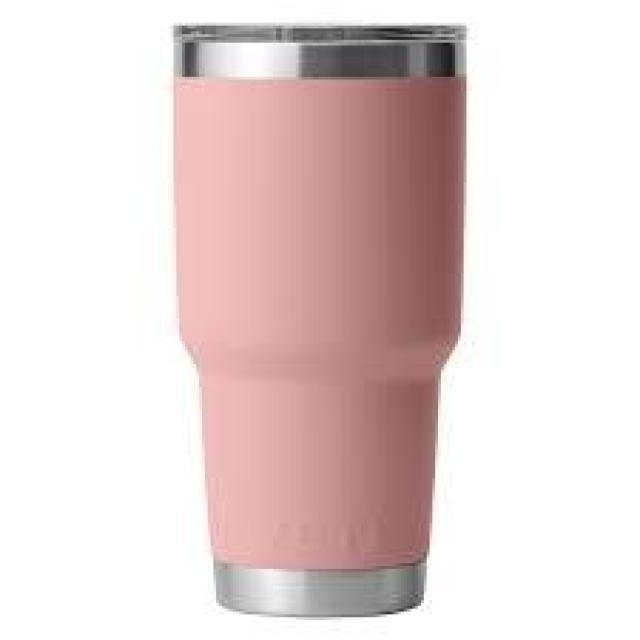bottle: (165, 14, 475, 620)
